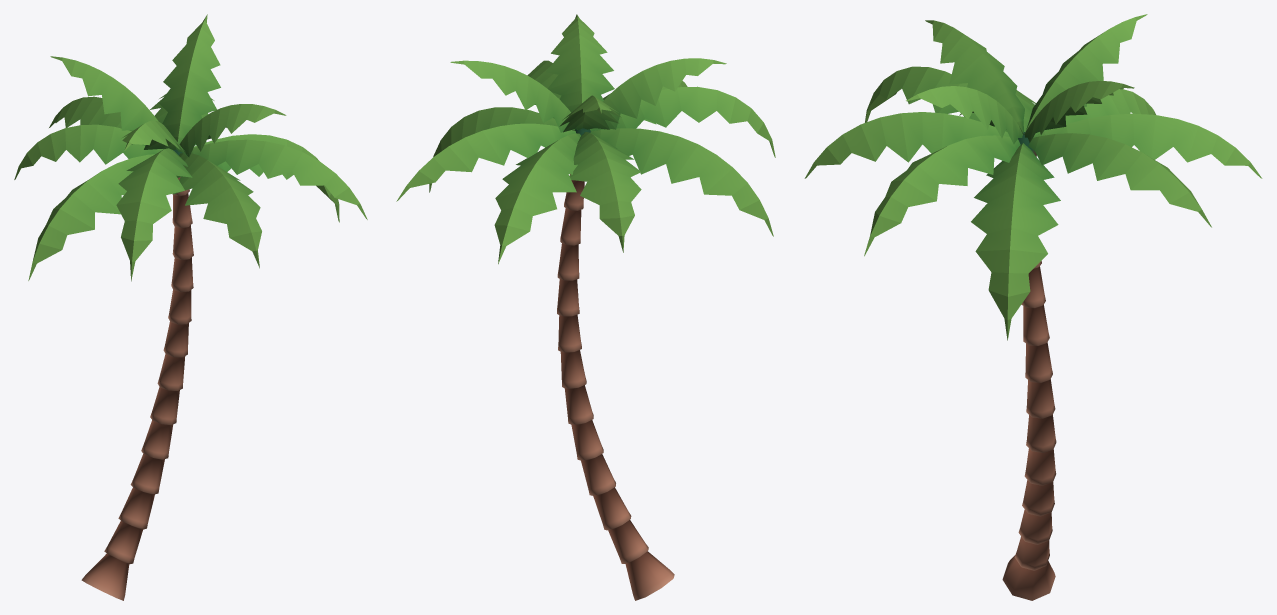
File: palm_curve.glb
The picture shows the model from 3 angles, left to right: view 1: azimuth 30°, elevation 25°; view 2: azimuth 150°, elevation 25°; view 3: azimuth 270°, elevation 25°; orthographic projection. The views are drawn at different scales.
Parts seen in each view (by area): view 1: palm_curve; view 2: palm_curve; view 3: palm_curve.
Part boxes in pixels (left/top/right/bottom): palm_curve: left=14, top=14, right=367, bottom=600; palm_curve: left=396, top=14, right=775, bottom=600; palm_curve: left=804, top=14, right=1262, bottom=600.
Bounding box in the file's own units: 6.69 × 10.26 × 7.25.
